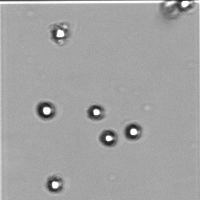Living Cell: (32, 97, 59, 123), (95, 125, 121, 151), (47, 20, 72, 47), (42, 172, 68, 196), (121, 119, 145, 145), (85, 101, 107, 125), (171, 1, 198, 14)
